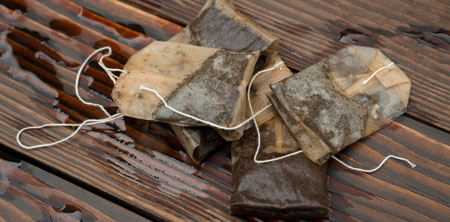kitchen_waste: (263, 32, 410, 174), (99, 33, 251, 143), (230, 84, 334, 219)
